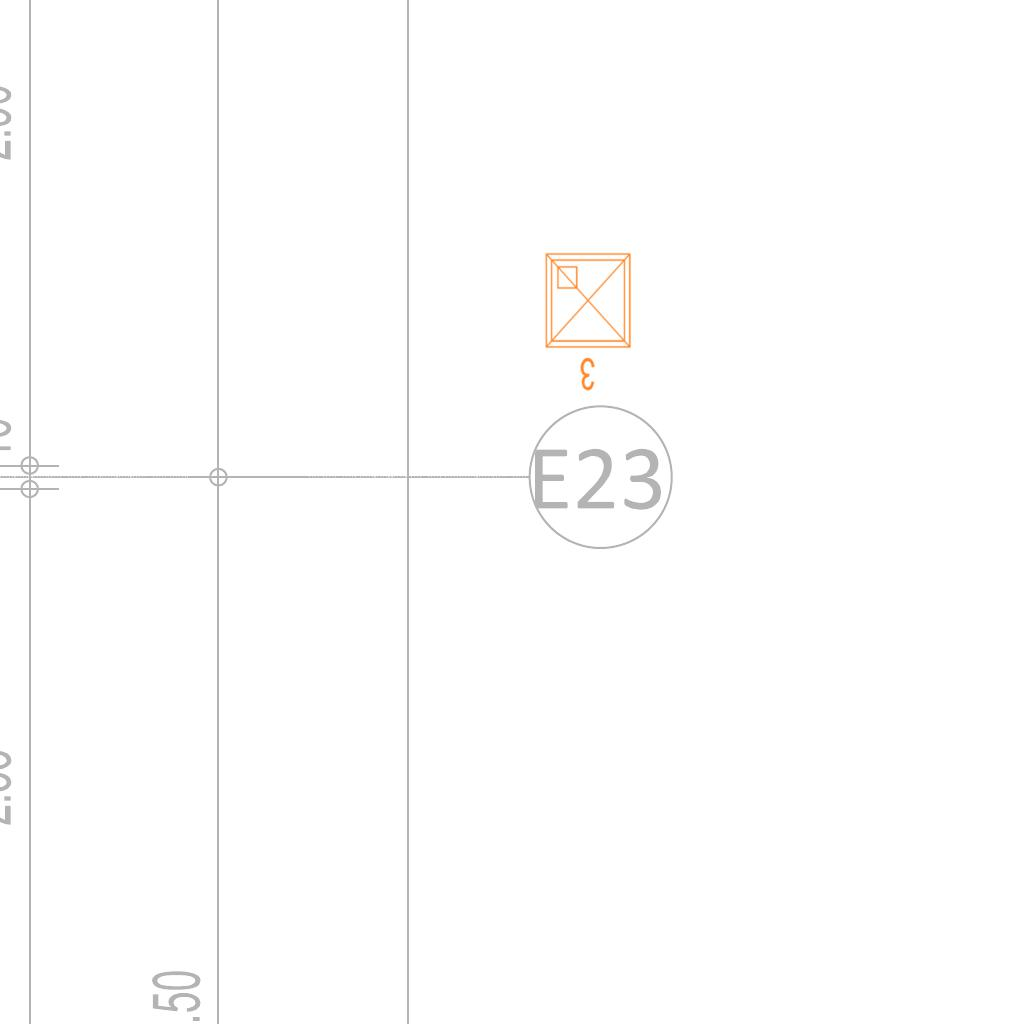Einbaudownlights_LED_Konferenzraeume: (538, 246, 642, 396)
